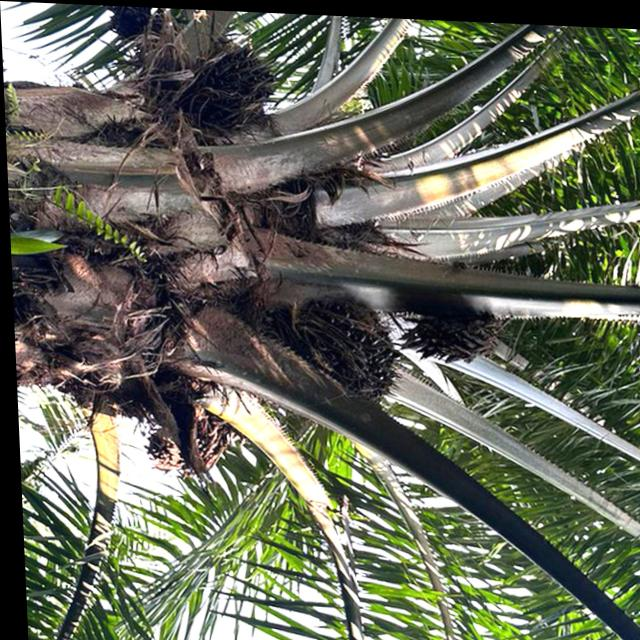ripe: (297, 285, 400, 402), (185, 32, 288, 122)
